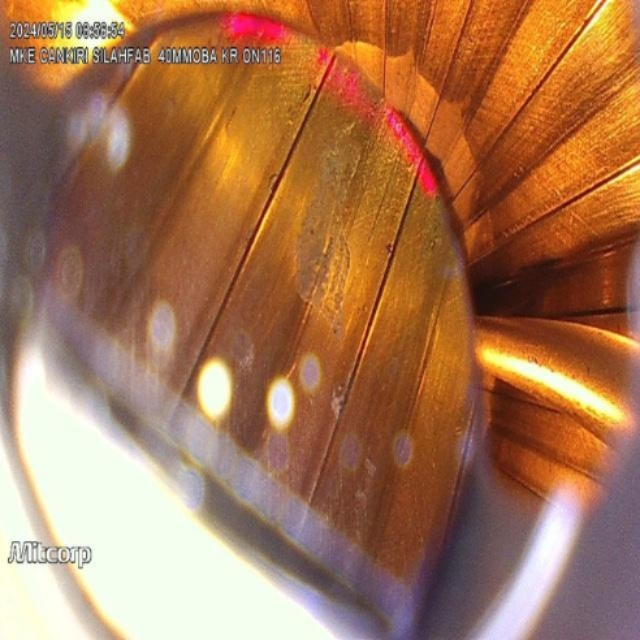hata_5.1: (326, 380, 370, 450), (267, 160, 285, 207), (243, 226, 260, 260), (304, 77, 320, 112)
hata_9.3: (297, 112, 363, 341)
